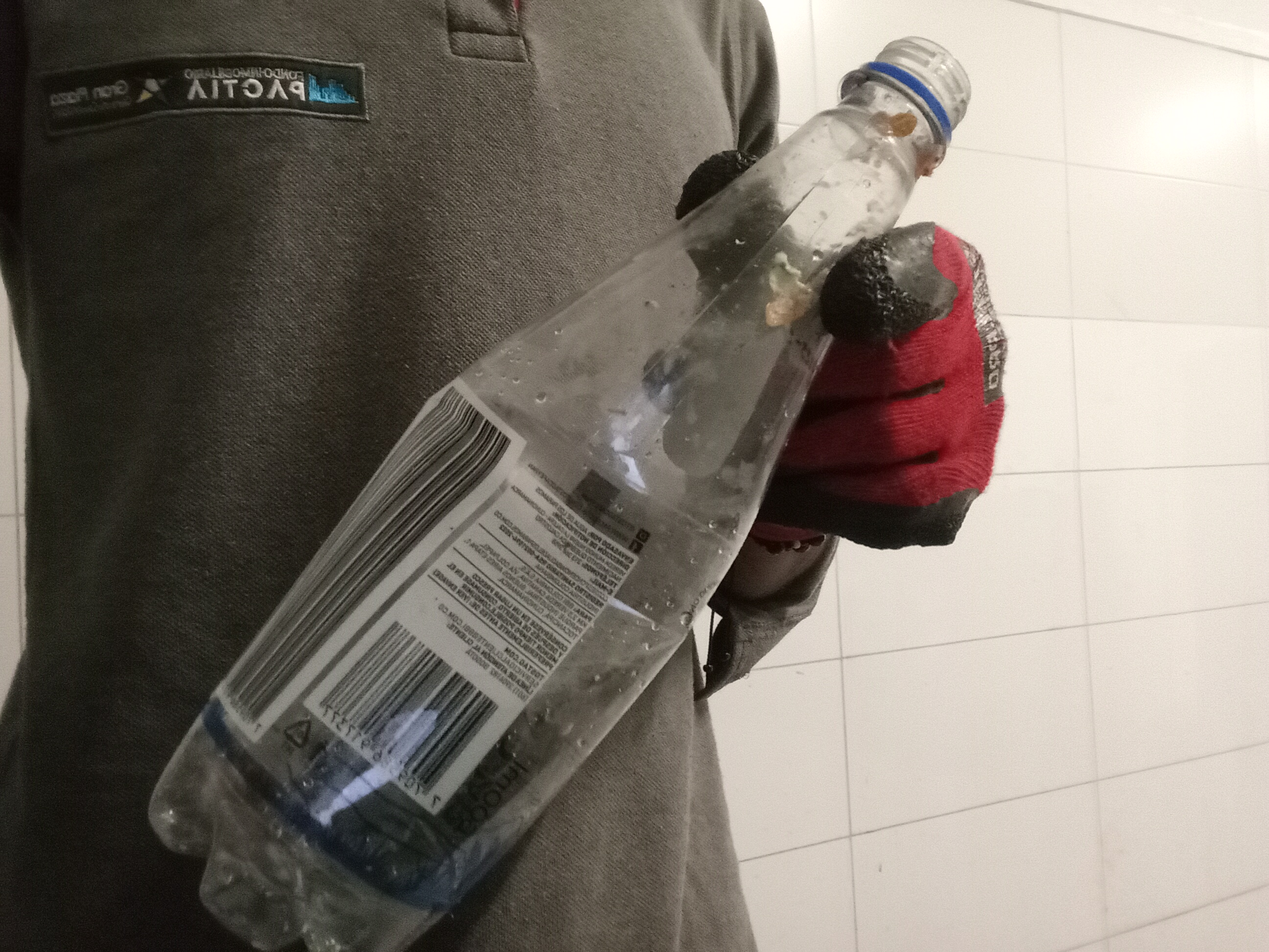Plastico: (150, 36, 973, 952)
